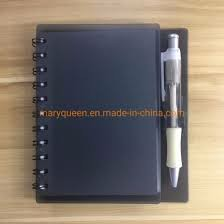pen: (160, 31, 185, 193)
